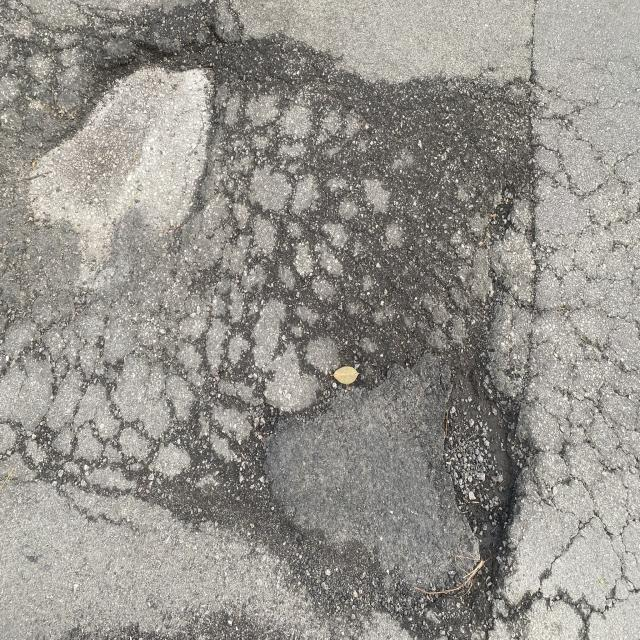Pothole: (254, 297, 583, 640), (59, 3, 259, 142)
